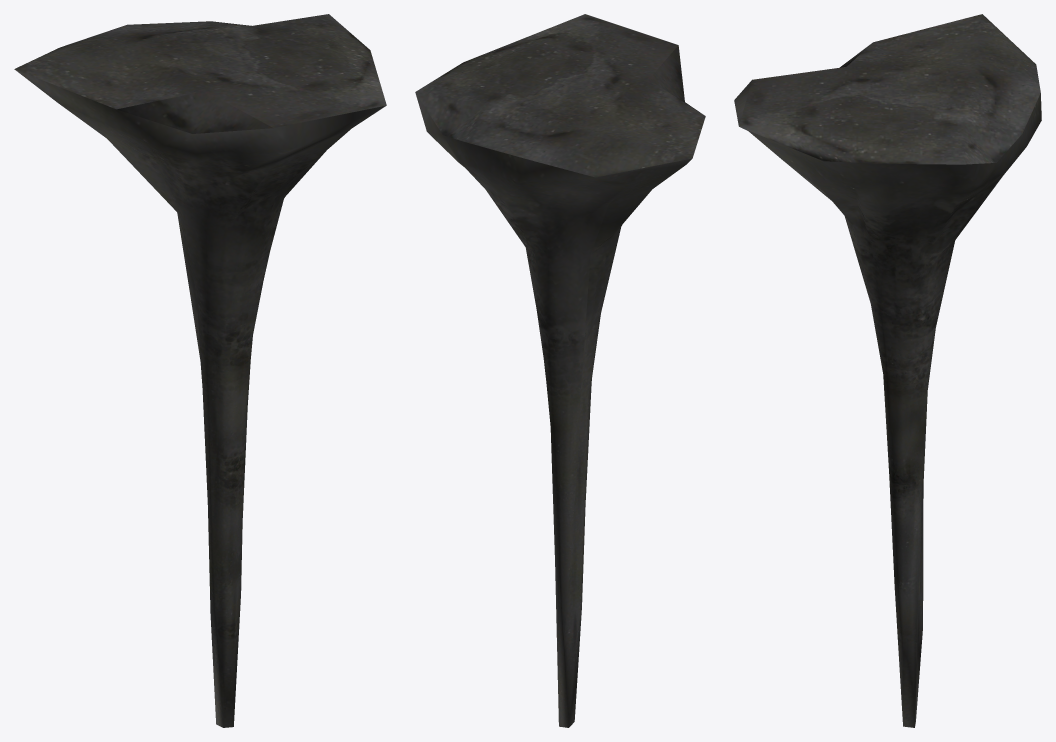
Rendered from rock_forest_stalgamite03.DAE.
The picture shows the model from 3 angles, left to right: view 1: azimuth 30°, elevation 25°; view 2: azimuth 150°, elevation 25°; view 3: azimuth 270°, elevation 25°; orthographic projection. The views are drawn at different scales.
Parts seen in each view (by area): view 1: Object003; view 2: Object003; view 3: Object003.
Boxes of the visible parts, x1,y1,x2,y2 form: Object003: (14,14,386,727); Object003: (415,14,705,727); Object003: (734,14,1041,727).
Bounding box in the file's own units: 0.9751 × 2.06 × 0.9068.
